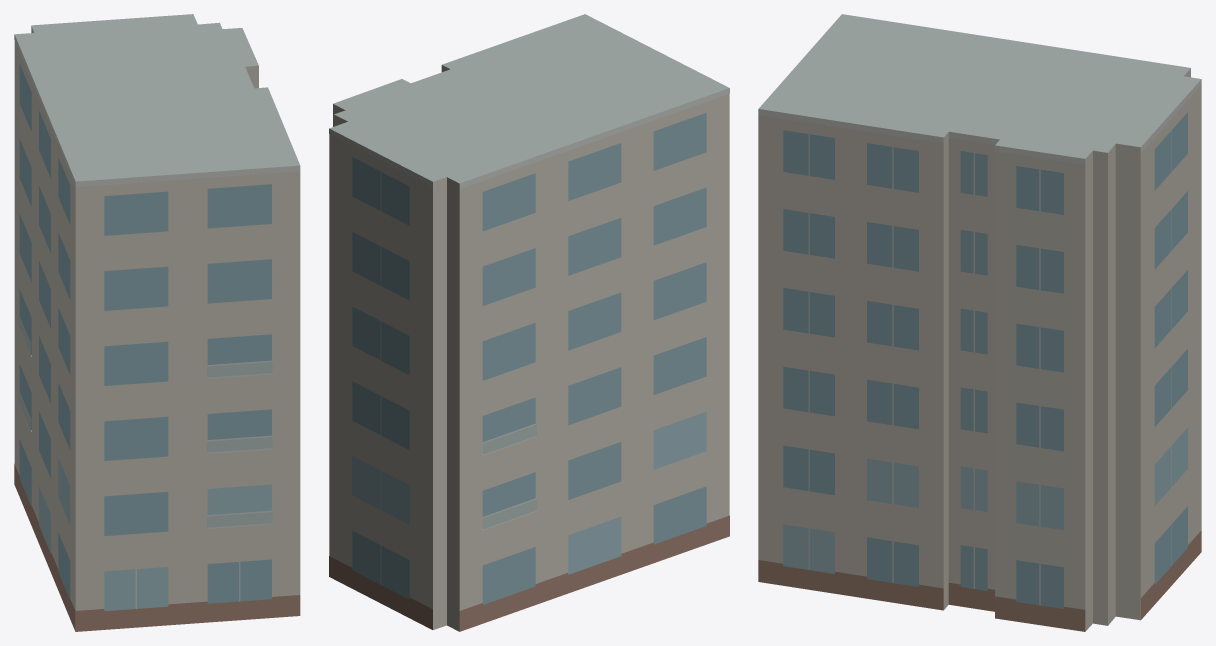
The model's file is survey-upis-32953260.glb.
3 views of the same model, side by side, from view 1: azimuth 30°, elevation 25°; view 2: azimuth 150°, elevation 25°; view 3: azimuth 270°, elevation 25° (orthographic). The views are drawn at different scales.
Parts seen in each view (by area): view 1: survey-upis-32953260.tmp; view 2: survey-upis-32953260.tmp; view 3: survey-upis-32953260.tmp.
Boxes of the visible parts, x1=… form: survey-upis-32953260.tmp: x1=14, y1=14, x2=300, y2=631; survey-upis-32953260.tmp: x1=329, y1=14, x2=729, y2=631; survey-upis-32953260.tmp: x1=758, y1=14, x2=1201, y2=631.
Bounding box in the file's own units: 12.72 × 19.35 × 16.44.
